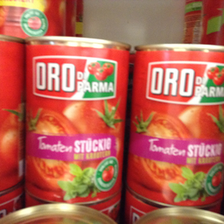tomato_sauce: (23, 35, 132, 204), (125, 43, 224, 207)
